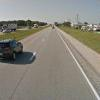Car: (3, 32, 23, 68)
